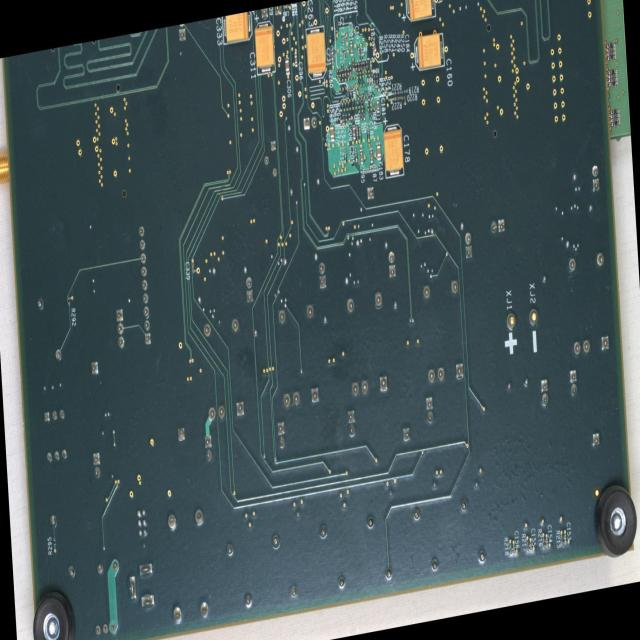Capacitor Jumper: (285, 57, 290, 75), (376, 143, 381, 160), (369, 148, 374, 164), (359, 149, 364, 164), (330, 124, 334, 142), (372, 40, 377, 54), (352, 124, 356, 140), (294, 52, 298, 67), (330, 48, 334, 63), (376, 98, 380, 113), (350, 40, 353, 56), (191, 264, 195, 274), (545, 538, 548, 547), (357, 46, 360, 55), (369, 59, 372, 68), (358, 126, 361, 135), (354, 146, 357, 155), (374, 84, 379, 89), (367, 122, 369, 133), (342, 35, 344, 45), (513, 544, 515, 554), (360, 52, 365, 56), (564, 535, 566, 544), (343, 49, 345, 58), (355, 82, 357, 91), (356, 126, 358, 135), (530, 542, 532, 550), (344, 148, 346, 156)
Connector: (0, 142, 13, 189)
Electrolytic Capacitor: (413, 32, 445, 72), (305, 25, 327, 81), (383, 123, 404, 179), (254, 20, 275, 75), (222, 12, 253, 45), (404, 0, 436, 23)
Pins: (164, 506, 212, 627), (200, 314, 247, 428), (344, 288, 390, 401), (420, 276, 466, 388), (566, 250, 612, 362), (276, 301, 321, 412), (137, 222, 153, 347), (126, 559, 157, 614), (66, 554, 120, 582), (42, 407, 68, 465), (262, 138, 280, 181), (115, 307, 126, 352), (92, 620, 117, 638), (202, 432, 215, 465), (488, 214, 506, 237), (424, 394, 436, 428), (589, 163, 601, 195), (463, 230, 474, 264), (90, 449, 102, 480), (346, 408, 357, 440), (539, 376, 550, 408), (568, 366, 578, 400), (317, 259, 327, 293), (276, 418, 286, 450), (244, 274, 254, 306), (387, 249, 397, 280), (260, 6, 282, 20), (301, 115, 319, 132), (400, 424, 411, 446), (590, 429, 601, 449), (176, 424, 186, 444), (90, 359, 100, 376), (366, 185, 375, 200), (49, 512, 57, 528), (54, 346, 62, 361)
Resistor: (52, 537, 56, 546), (560, 534, 563, 546), (542, 539, 545, 550), (509, 544, 512, 554), (526, 542, 529, 552), (352, 62, 355, 72), (341, 68, 344, 78), (400, 88, 406, 93), (360, 61, 363, 70), (357, 61, 360, 70), (349, 66, 352, 75), (368, 111, 371, 120), (67, 296, 70, 305), (365, 60, 368, 68), (338, 68, 341, 76), (358, 94, 361, 102), (394, 96, 400, 100), (400, 95, 406, 99), (355, 61, 357, 71), (336, 68, 338, 78), (373, 74, 378, 78), (373, 79, 378, 83), (347, 91, 352, 95), (362, 93, 364, 103), (368, 92, 370, 102), (394, 90, 399, 94), (363, 60, 365, 69), (344, 67, 346, 76), (346, 67, 348, 76), (341, 97, 343, 106), (347, 96, 349, 105), (342, 113, 344, 122), (348, 112, 350, 121), (363, 111, 365, 120), (344, 97, 346, 105), (345, 113, 347, 121), (360, 113, 362, 121)
Resistor Network: (610, 108, 620, 128), (608, 68, 618, 87), (607, 41, 616, 61)
Test Point: (527, 306, 539, 326), (505, 311, 516, 331)
